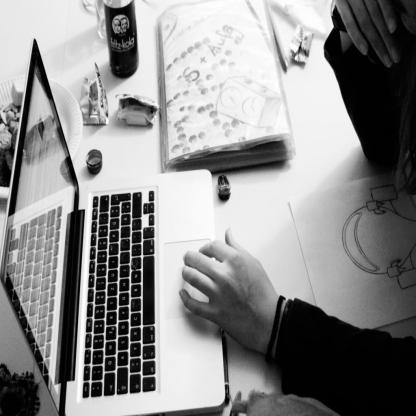board: (0, 38, 226, 415)
